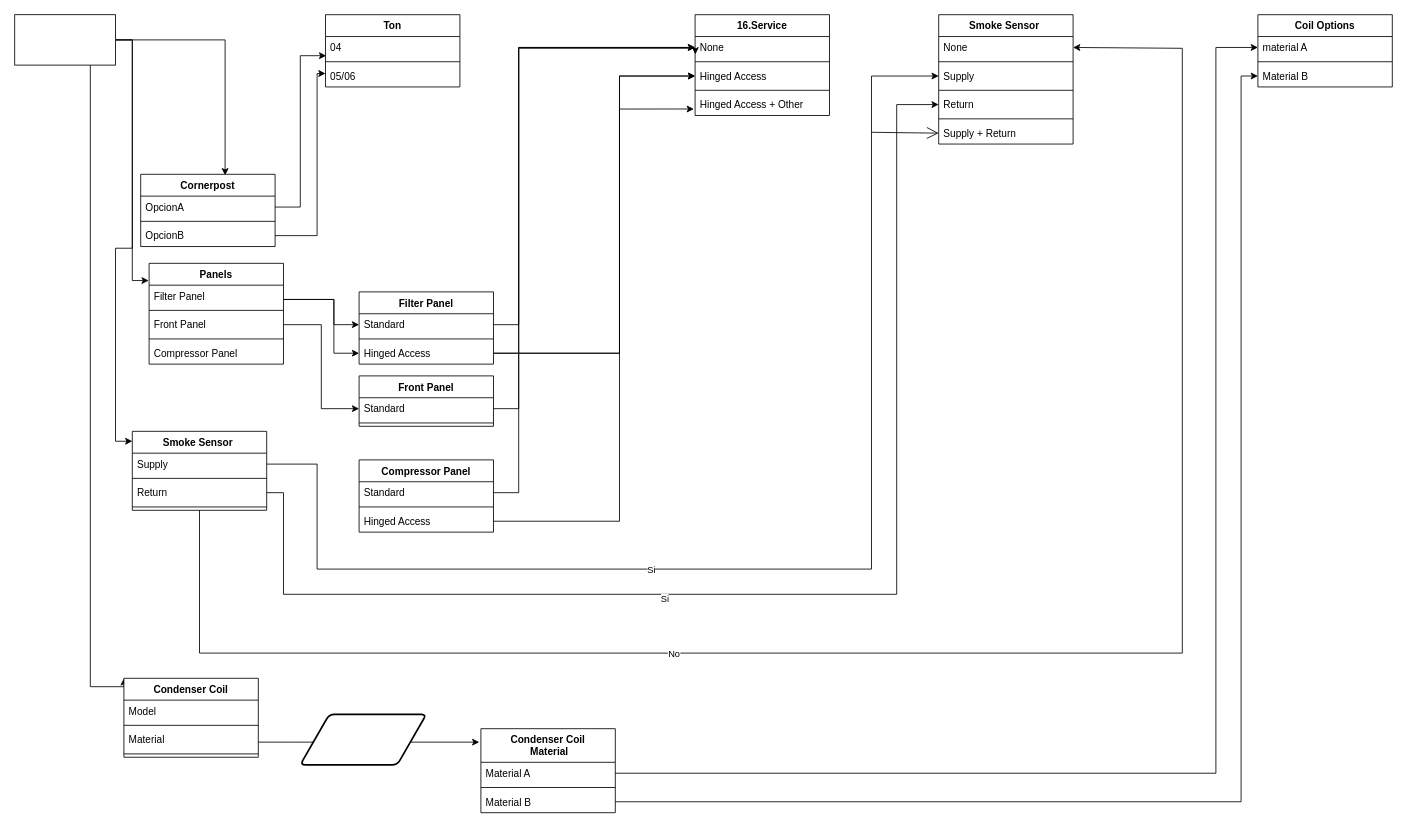
This 1407x830 diagram has some shape labels left out. Here are the shapes that lost their labels. From the top down, the centre of each, then its label:
(65,39): 50GCQ
(363,739): Element Property
